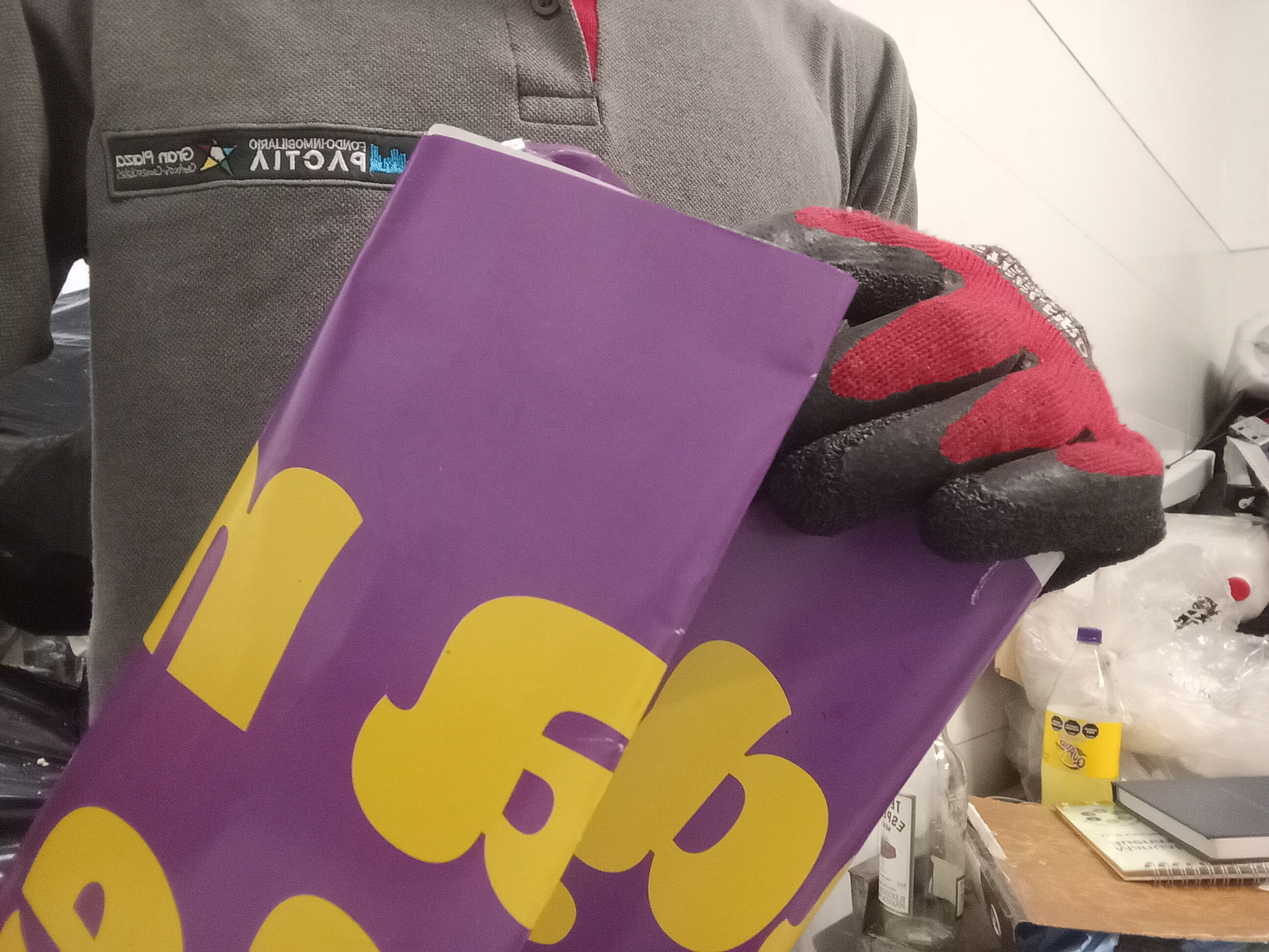Papel: (0, 123, 1067, 952)
